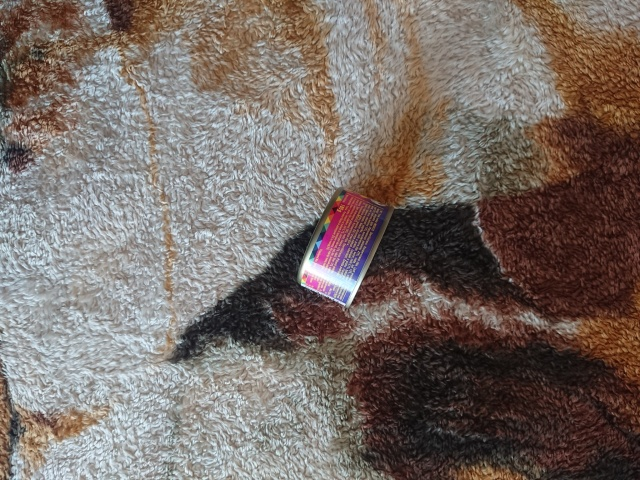Giana Tuna Salad Mexico 185g: (295, 184, 396, 312)
